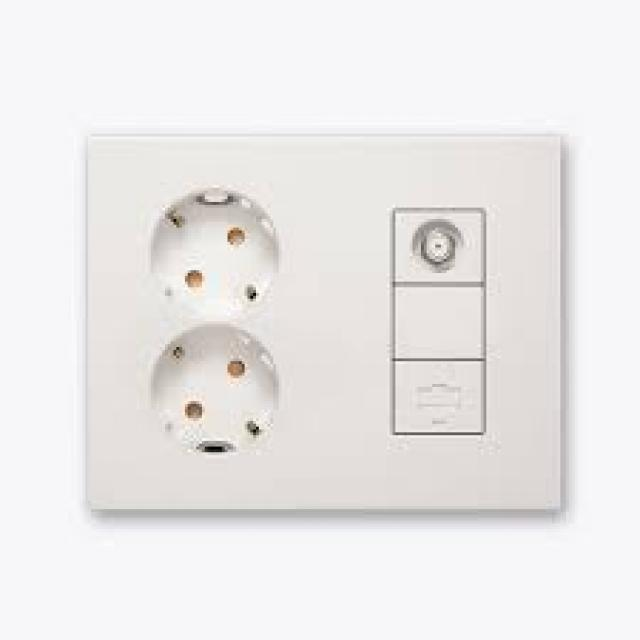typeb: (121, 172, 321, 319), (127, 328, 314, 467)
